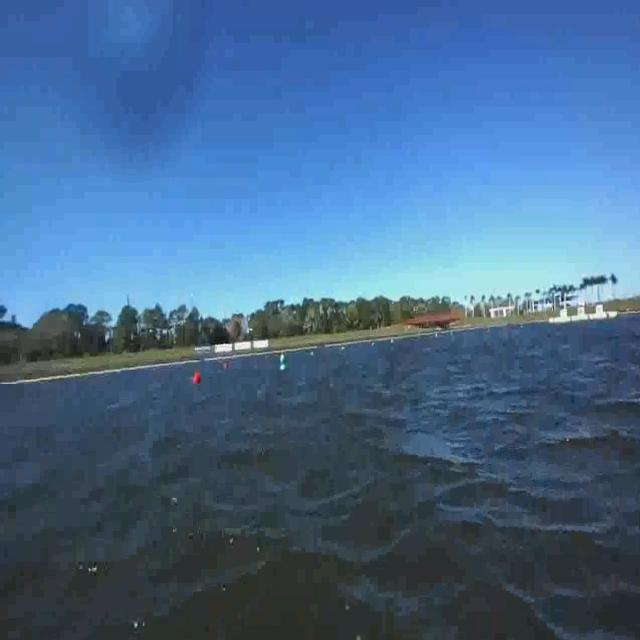green-buoy: (280, 358, 288, 377)
red-buoy: (194, 369, 202, 385)
